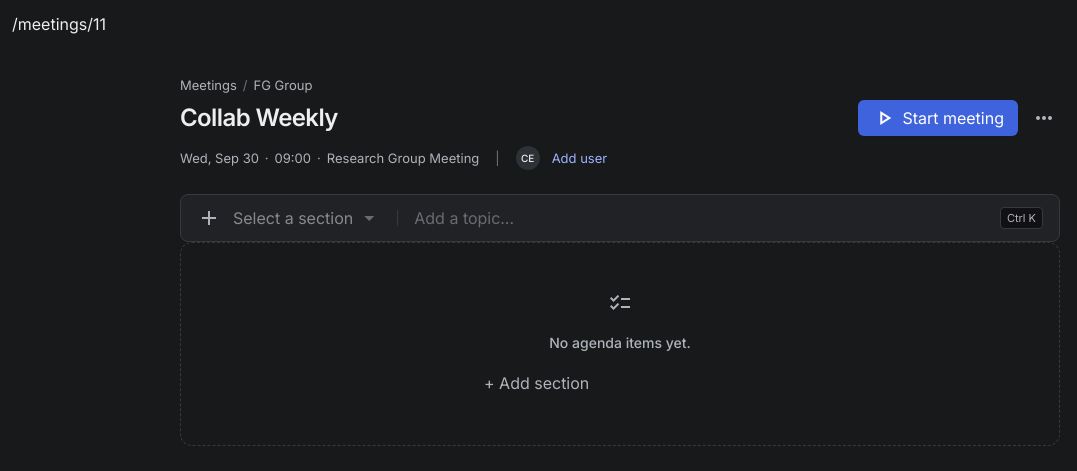
Scenario: MeetingDetailPage inline section creation › exposes the same action on a meeting without sections
Expected: the text "No agenda items yet." is shown, [549,334,691,351]
Click the button "+ Add section": click(537, 383) [476,369,764,397]
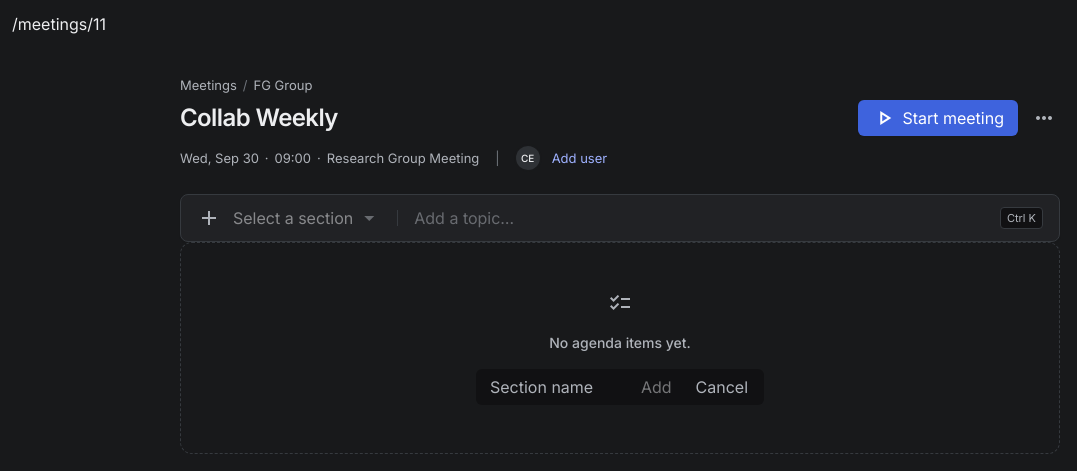
In the field named "New section name": (554, 387) [484,373,625,401], type "First"
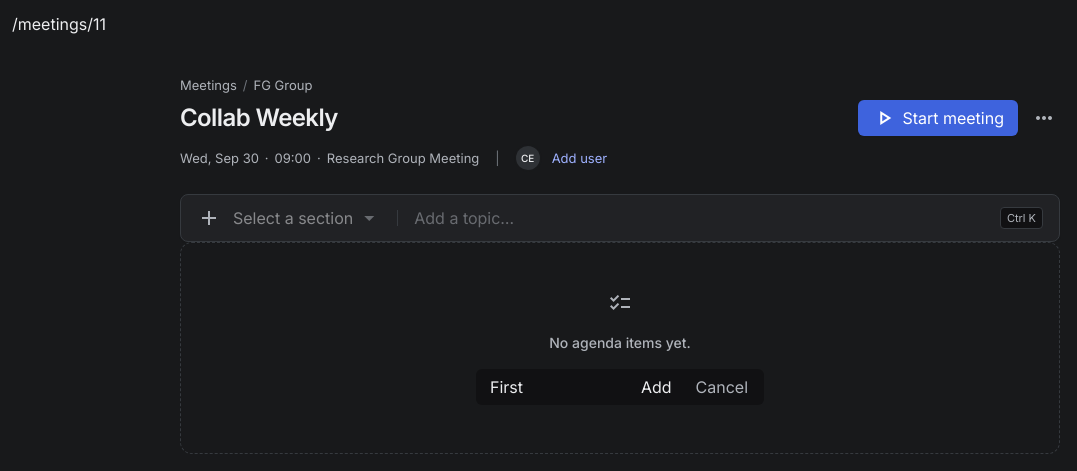
Submit the form named "New section name", box [476,369,764,405]
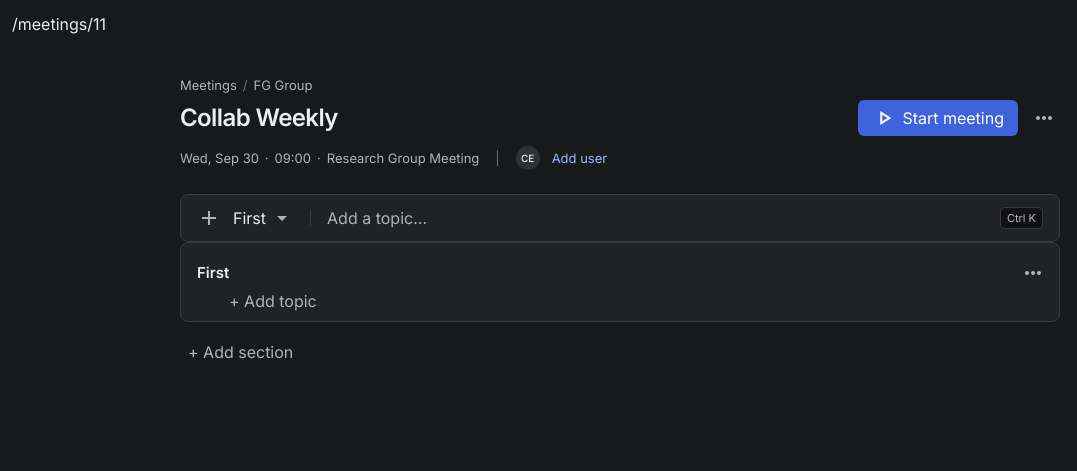
Expected: the heading "First" is shown, [197,263,229,283]
